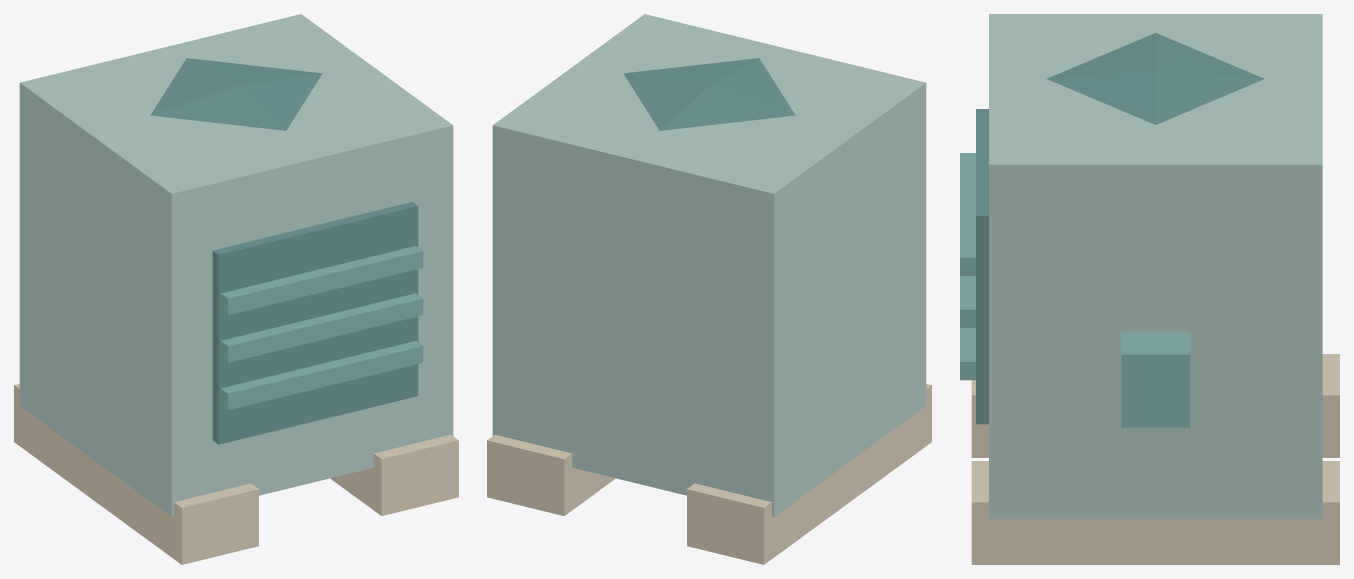
Rendered from cooler.gltf.
3 views of the same model, side by side, from view 1: azimuth 30°, elevation 25°; view 2: azimuth 150°, elevation 25°; view 3: azimuth 270°, elevation 25° (orthographic). The views are drawn at different scales.
Parts seen in each view (by area): view 1: cooler; view 2: cooler; view 3: cooler.
Boxes of the visible parts, x1,y1,x2,y2 form: cooler: [14, 14, 458, 564]; cooler: [487, 14, 931, 564]; cooler: [960, 14, 1339, 564].
Bounding box in the file's own units: 0.715 × 0.8075 × 0.66.
